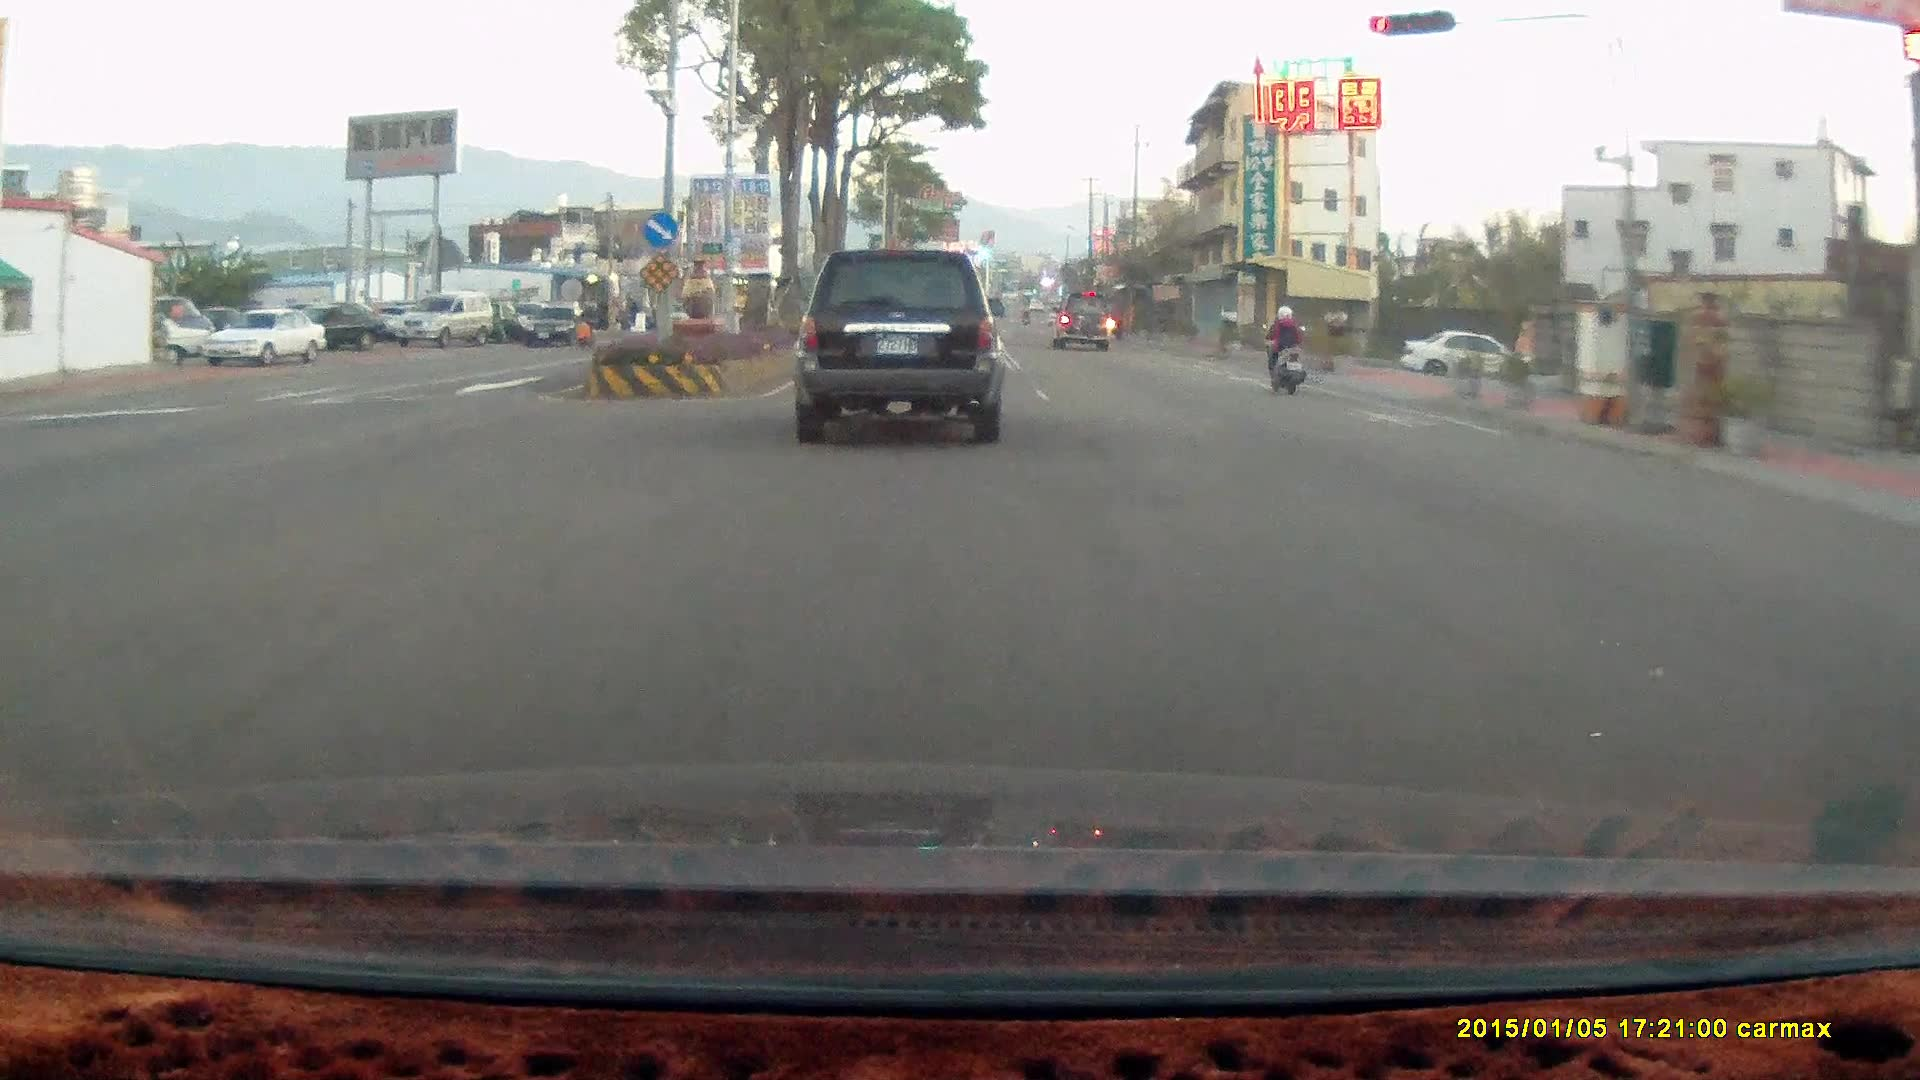rider: (1253, 297, 1317, 403), (1256, 301, 1302, 394), (568, 295, 595, 348)
vehicle: (787, 247, 1009, 450), (787, 247, 1005, 443), (201, 305, 326, 367), (208, 309, 330, 371), (1405, 333, 1539, 388), (1398, 330, 1532, 384), (393, 291, 495, 347), (293, 301, 396, 347), (1050, 290, 1113, 349), (1055, 293, 1112, 356), (525, 305, 594, 353), (522, 303, 591, 346)
